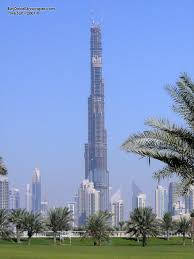Sky Building: (77, 16, 117, 233), (125, 178, 148, 234), (27, 163, 46, 222), (152, 182, 169, 227)
